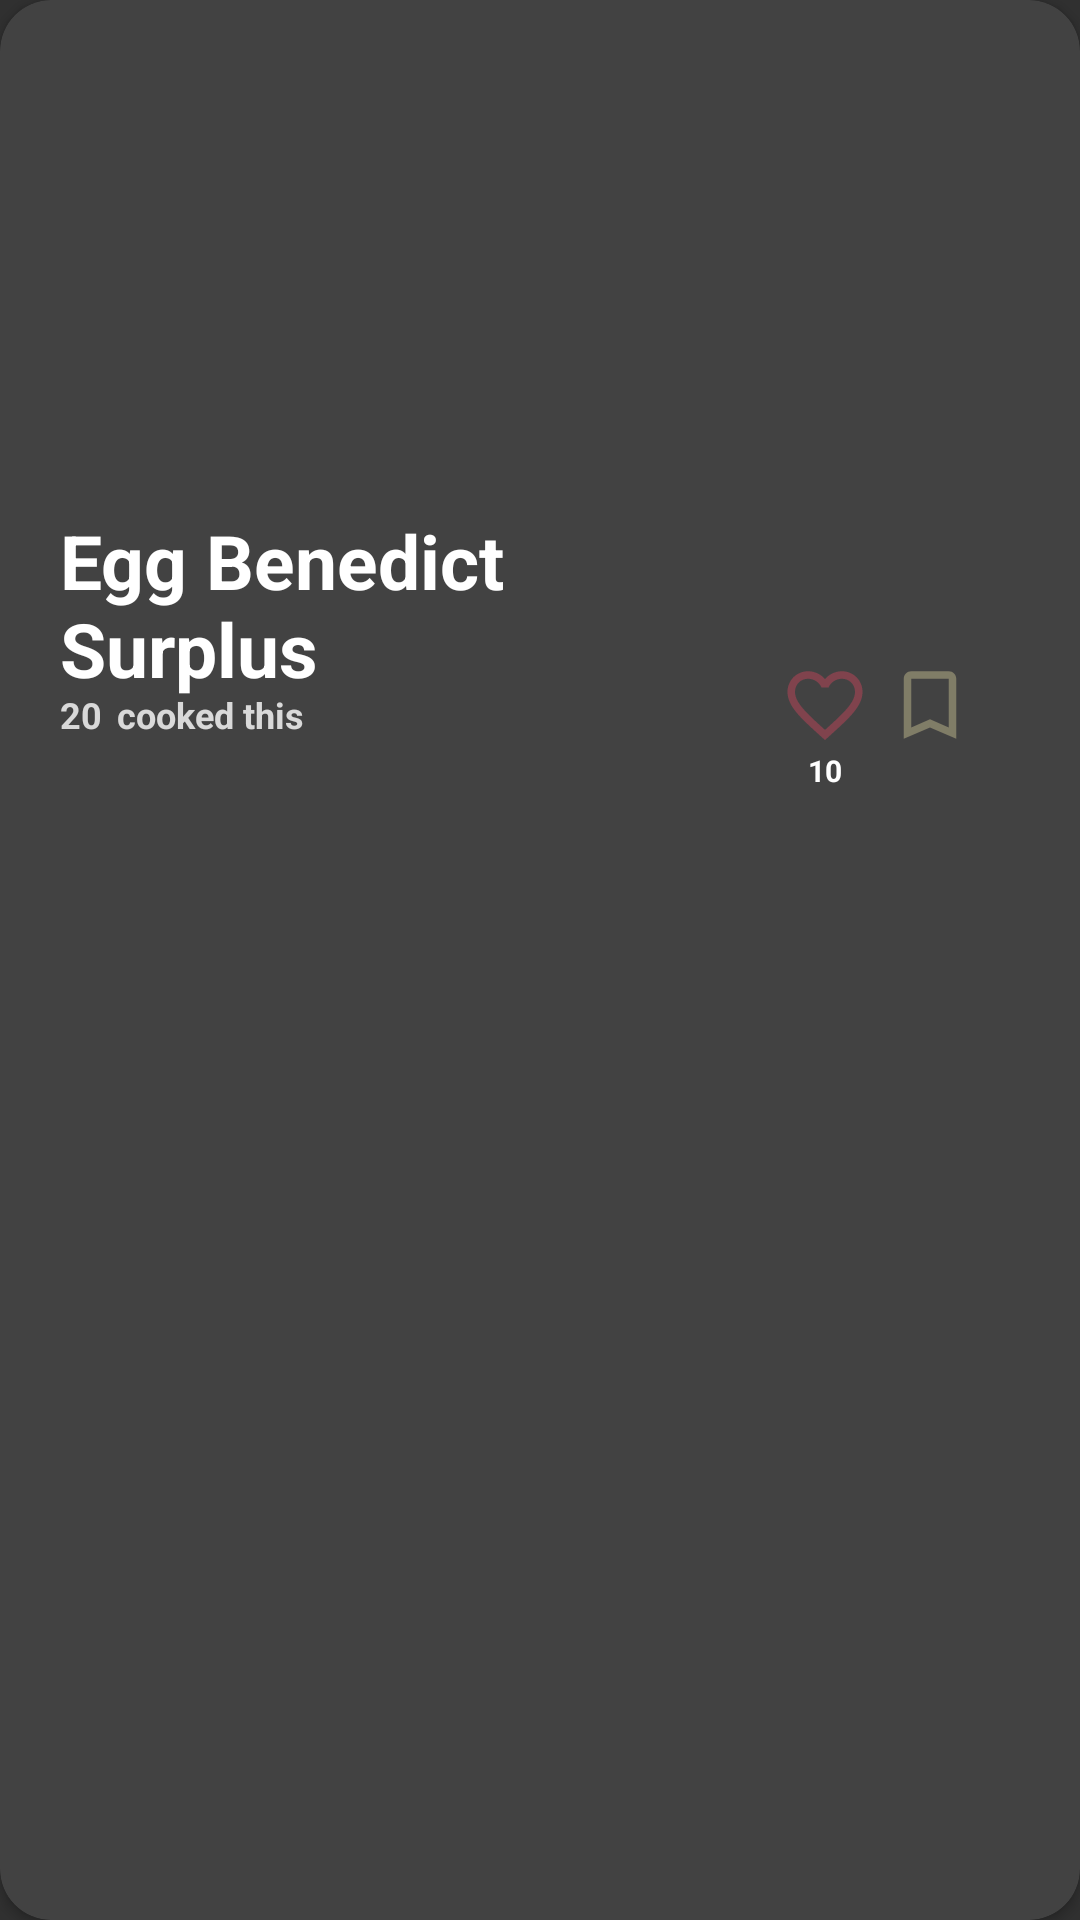

Icon bounding boxes for this 1080x1920 phone screenshot, format (x1, y1, x2, y2):
favorite border: (787, 671, 863, 740)
turned in not: (904, 671, 956, 739)
